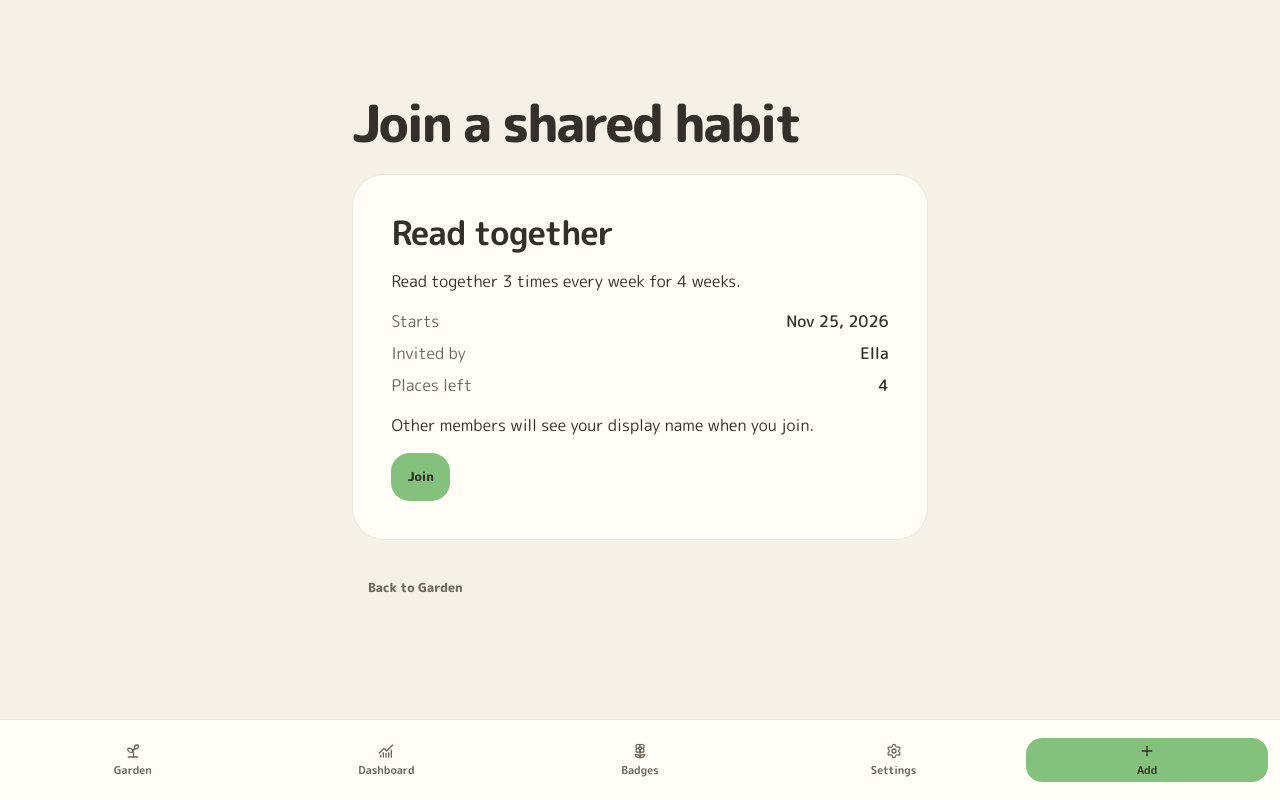
Test: join shared habit (#275) › joins as a second account only on confirmation and shows success
This screenshot has width=1280, height=800.
Click the button "Join": (421, 477) [391, 453, 450, 501]
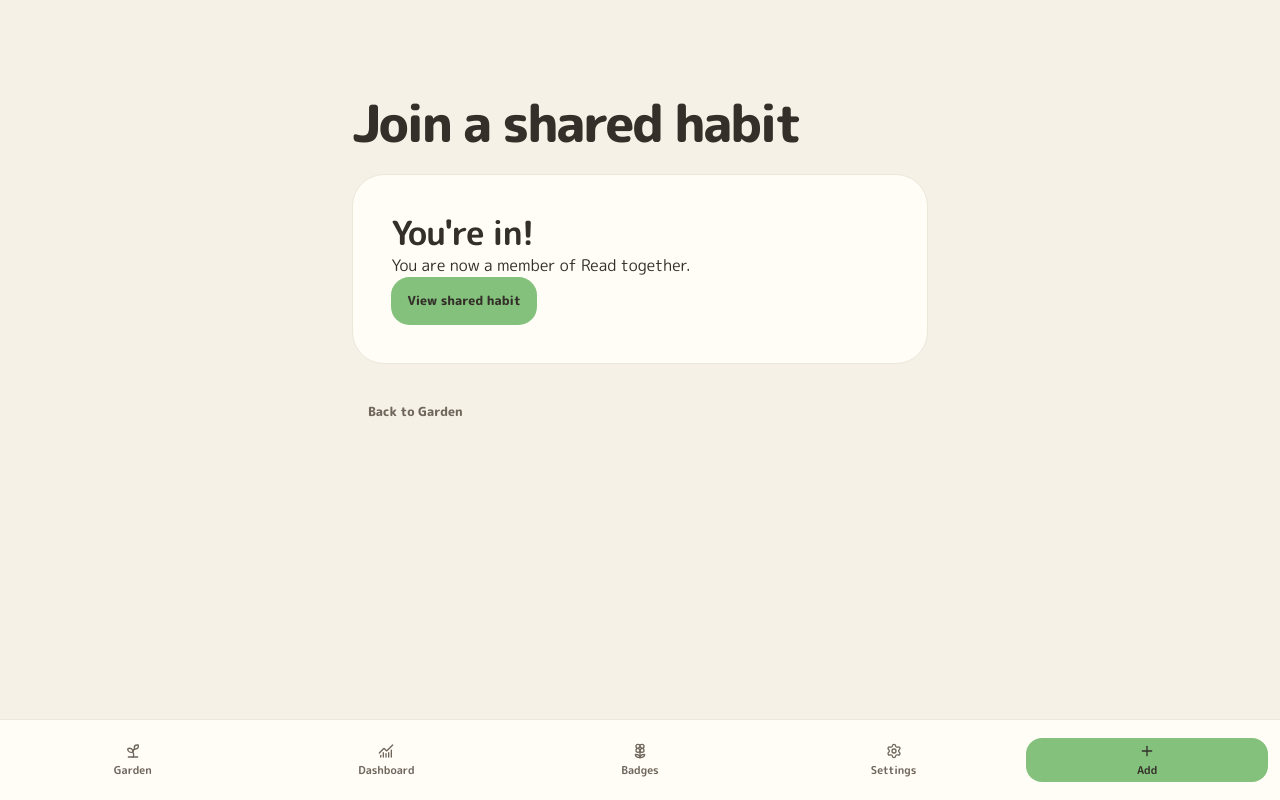
Expected: the message reads "You are now a member of Read together.", [391, 254, 691, 276]
